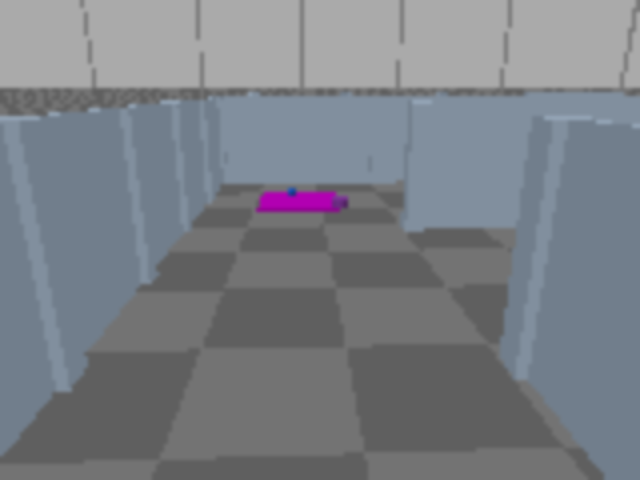goal_zone: (258, 192, 339, 211)
